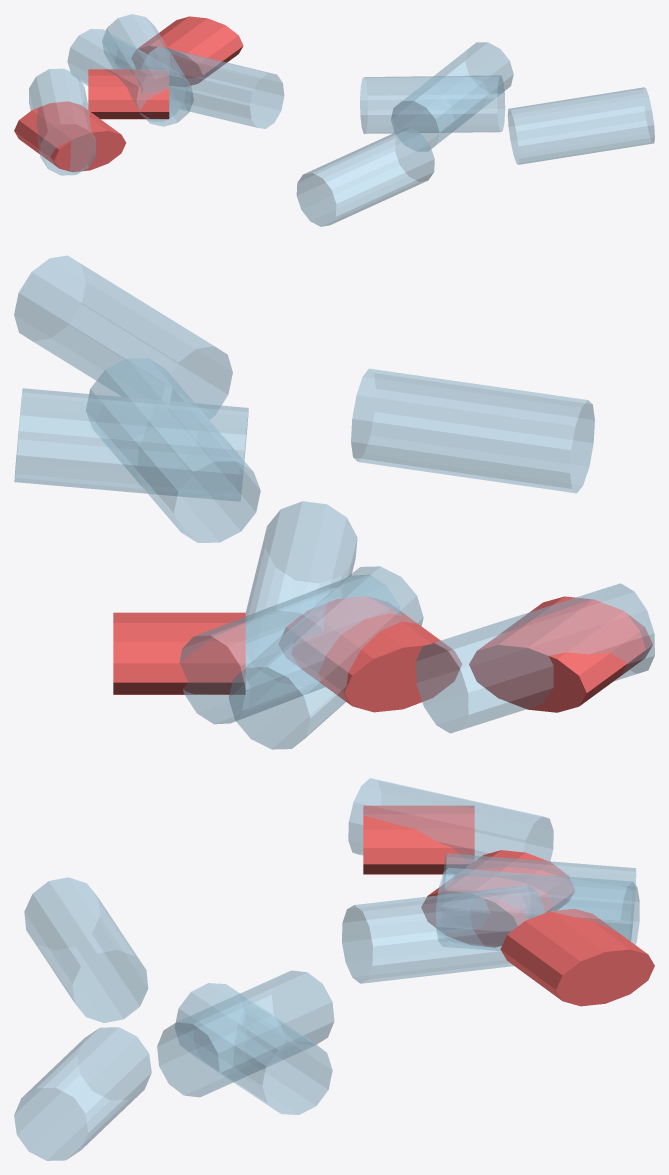
Rendered from plastic_trash.glb.
3 views of the same model, one above another, from view 1: azimuth 30°, elevation 25°; view 2: azimuth 150°, elevation 25°; view 3: azimuth 270°, elevation 25° (orthographic). The views are drawn at different scales.
Visible parts, largest first — view 1: PlasticTrashModel; view 2: PlasticTrashModel; view 3: PlasticTrashModel.
Part boxes in pixels (x1,y1,x2,y2): PlasticTrashModel: (14,14,654,226); PlasticTrashModel: (14,255,654,749); PlasticTrashModel: (14,778,654,1160).
Size of the model in its own units: 1.99 by 0.2411 by 1.62.
